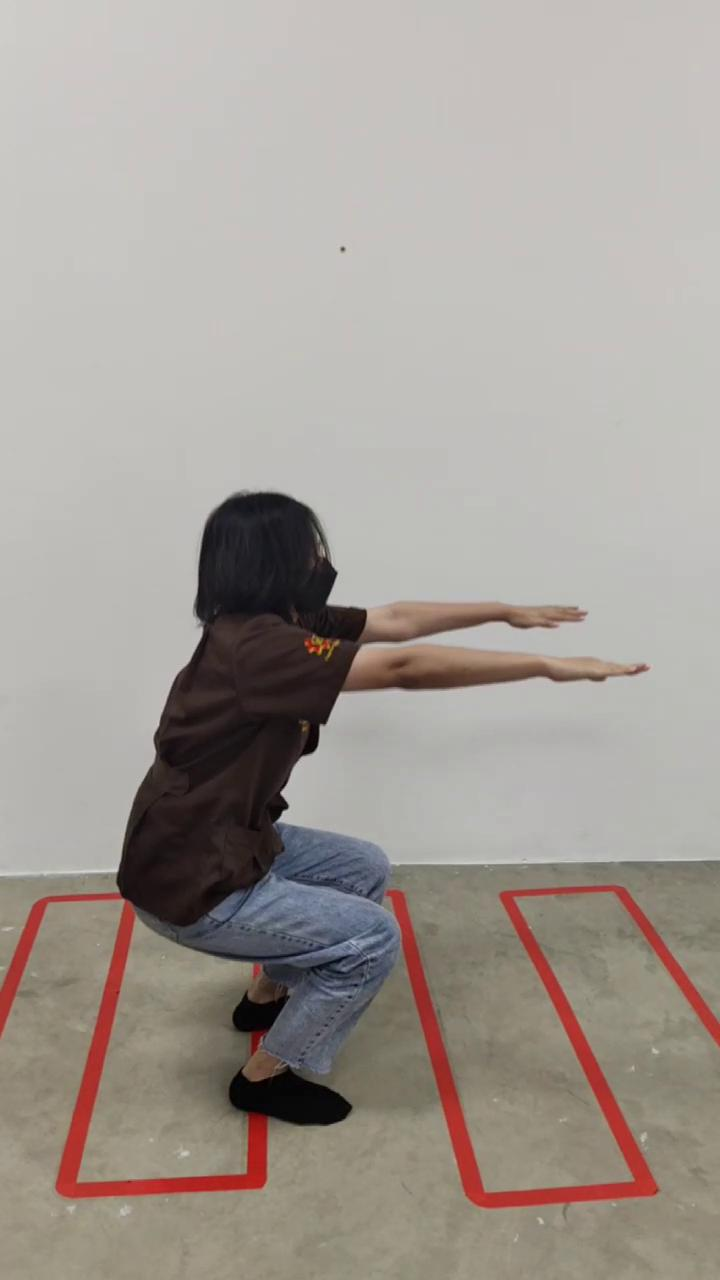squat down: (118, 492, 648, 1125)
